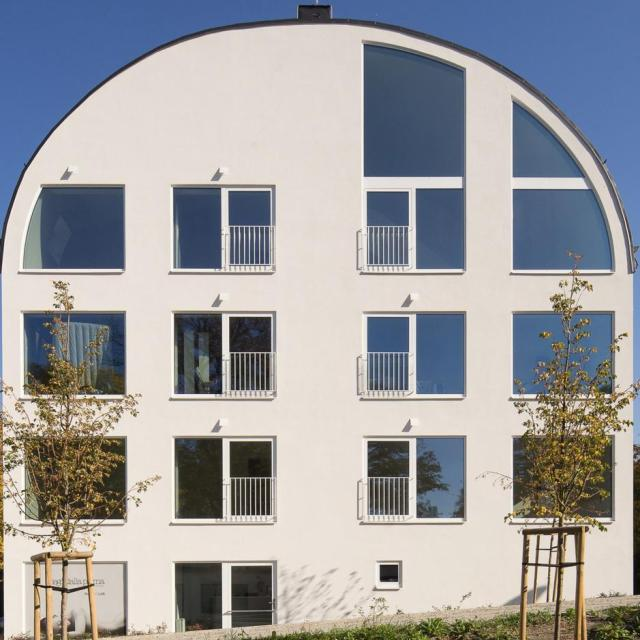door: (223, 563, 273, 627)
railing: (226, 224, 276, 269), (225, 354, 276, 398), (221, 480, 272, 523), (369, 226, 412, 267), (368, 478, 413, 516), (365, 357, 411, 392)
window: (365, 41, 466, 177), (513, 310, 612, 395), (366, 188, 467, 271), (24, 313, 127, 394), (172, 187, 274, 268), (513, 188, 613, 270), (23, 187, 124, 268), (174, 313, 273, 394), (26, 438, 126, 518), (369, 435, 466, 517), (175, 438, 273, 519), (513, 438, 612, 518), (365, 316, 462, 392), (510, 99, 584, 176), (175, 563, 223, 633), (378, 562, 402, 589)
